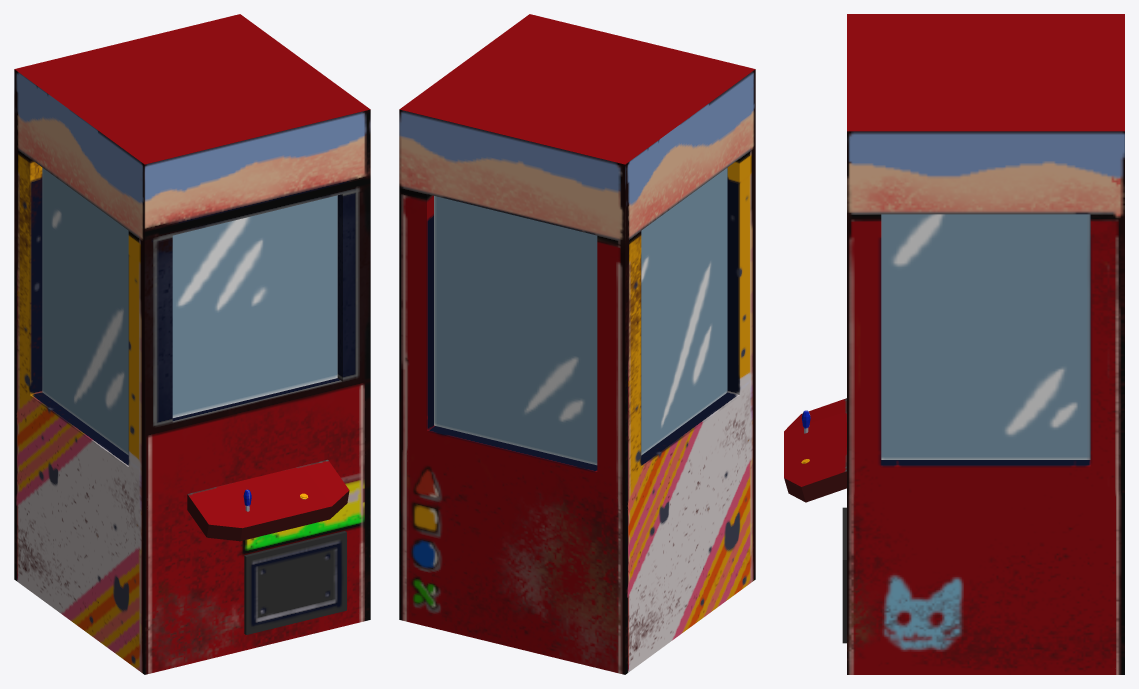
The model's file is MaquinaDeBicho.fbx.
3 renders of one model, left to right at view 1: azimuth 30°, elevation 25°; view 2: azimuth 150°, elevation 25°; view 3: azimuth 270°, elevation 25°, orthographic. The views are drawn at different scales.
Parts seen in each view (by area): view 1: MaquinaDeBicho; view 2: MaquinaDeBicho; view 3: MaquinaDeBicho.
Boxes of the visible parts, <box> form: MaquinaDeBicho: <box>14,14,370,674</box>; MaquinaDeBicho: <box>399,14,755,674</box>; MaquinaDeBicho: <box>784,14,1124,674</box>.
Bounding box in the file's own units: 200 × 432 × 245.
